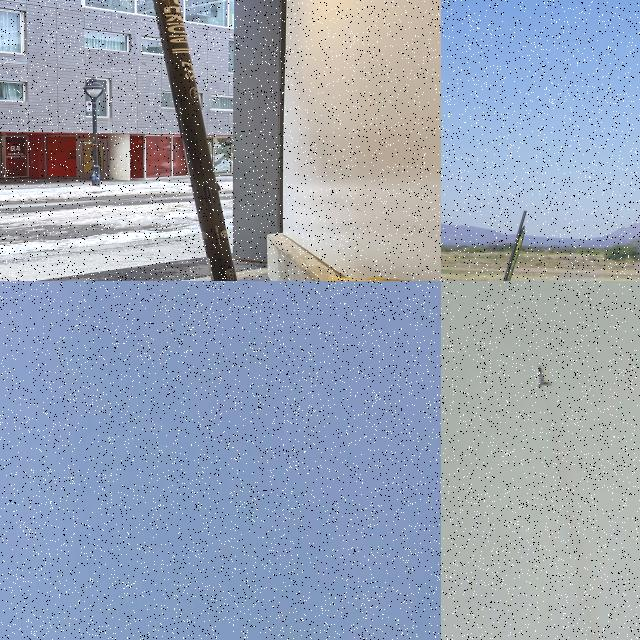Rocket: (152, 0, 238, 281), (536, 364, 552, 388)
